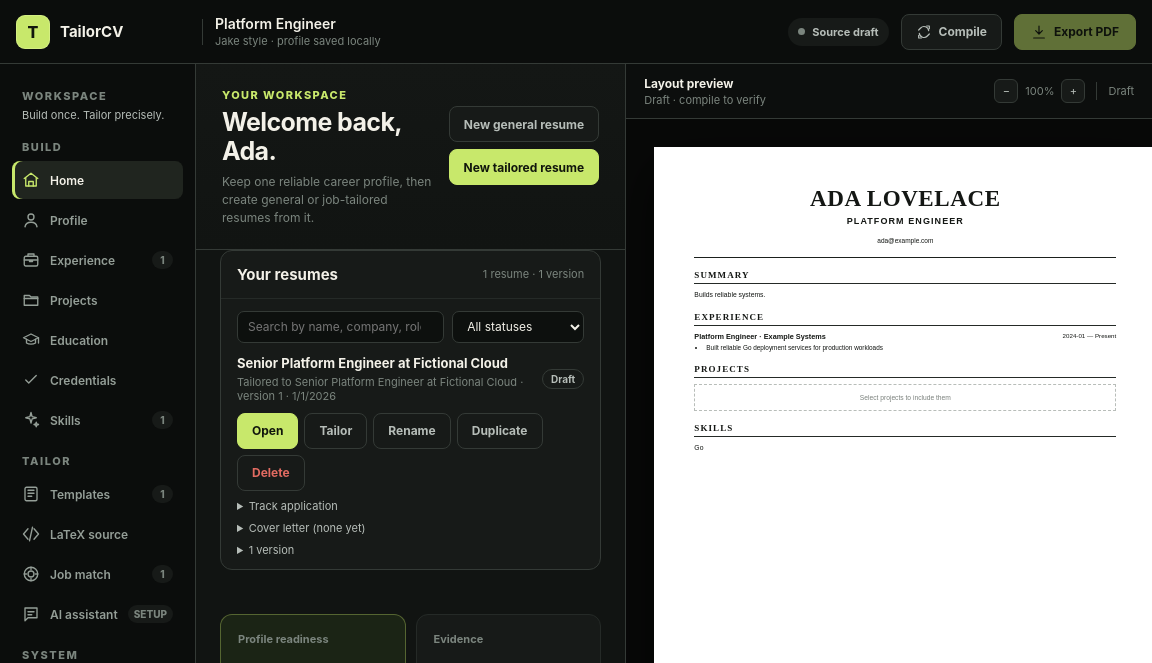
Test: App Wails workflow integration › shows which job skills an opened tailored resume covers
Click the button named "Open latest version of Senior Platform Engineer at Fictional Cloud": (268, 430) [237,412,298,448]
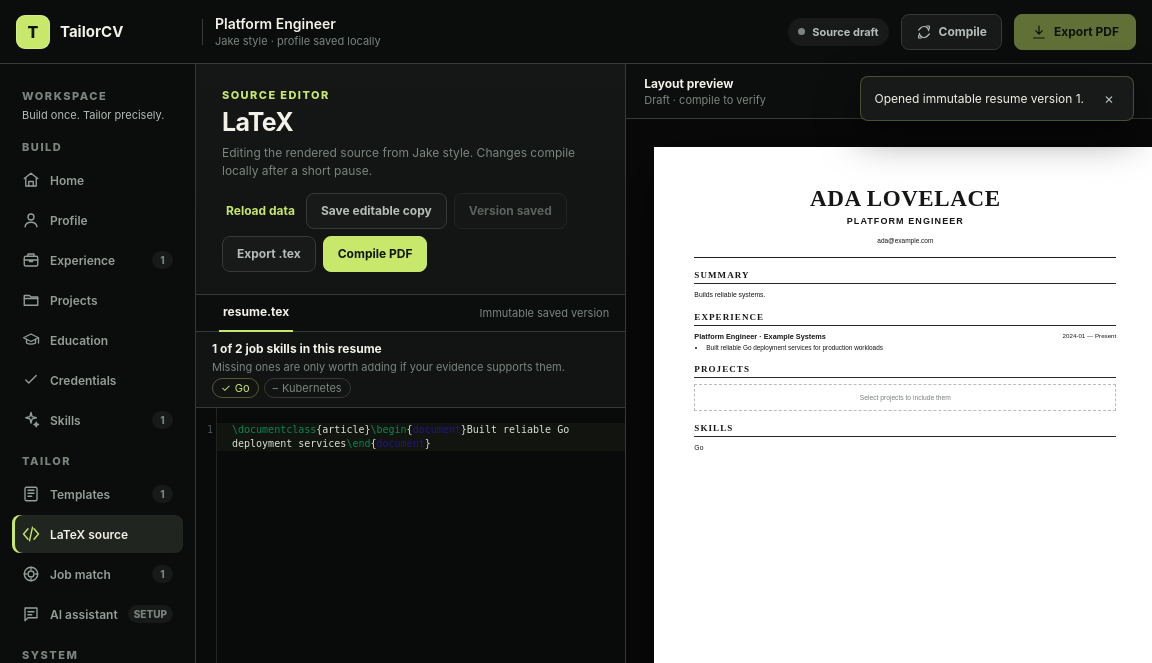
Expected: the text "1 of 2 job skills in this resume" is shown, [212,341,382,356]
